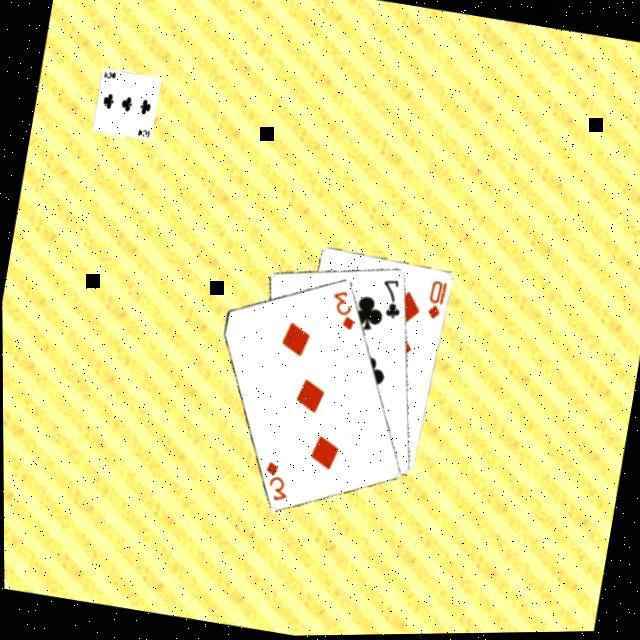10D: (421, 276, 448, 322)
3D: (322, 284, 360, 334), (255, 457, 293, 504)
7C: (372, 274, 406, 322)
